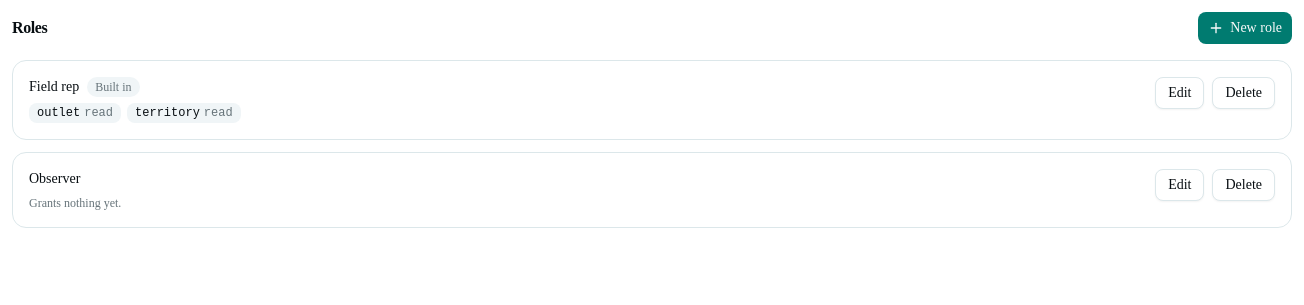
<RoleBrowser> › shows what the server said when a role is still held
This screenshot has width=1304, height=305.
Click the button with aria-label "Delete the Observer role" at (1244, 185), box [1212,169,1275,201]
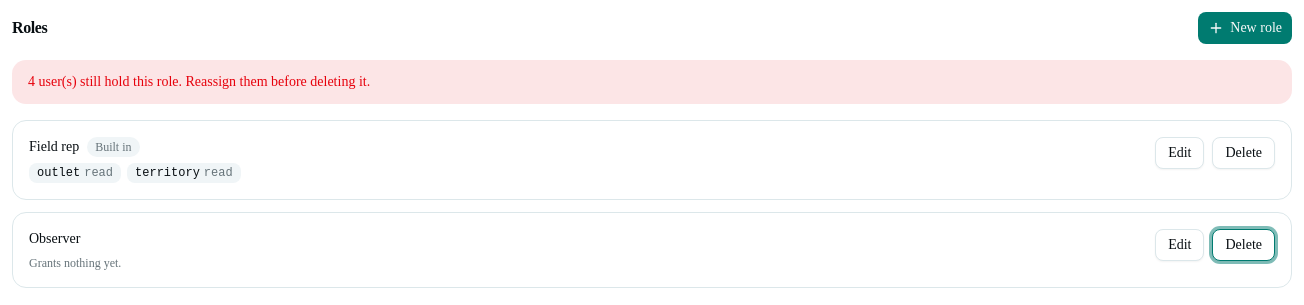
Result: the message shows "still hold this role" at [28,74,370,89]
